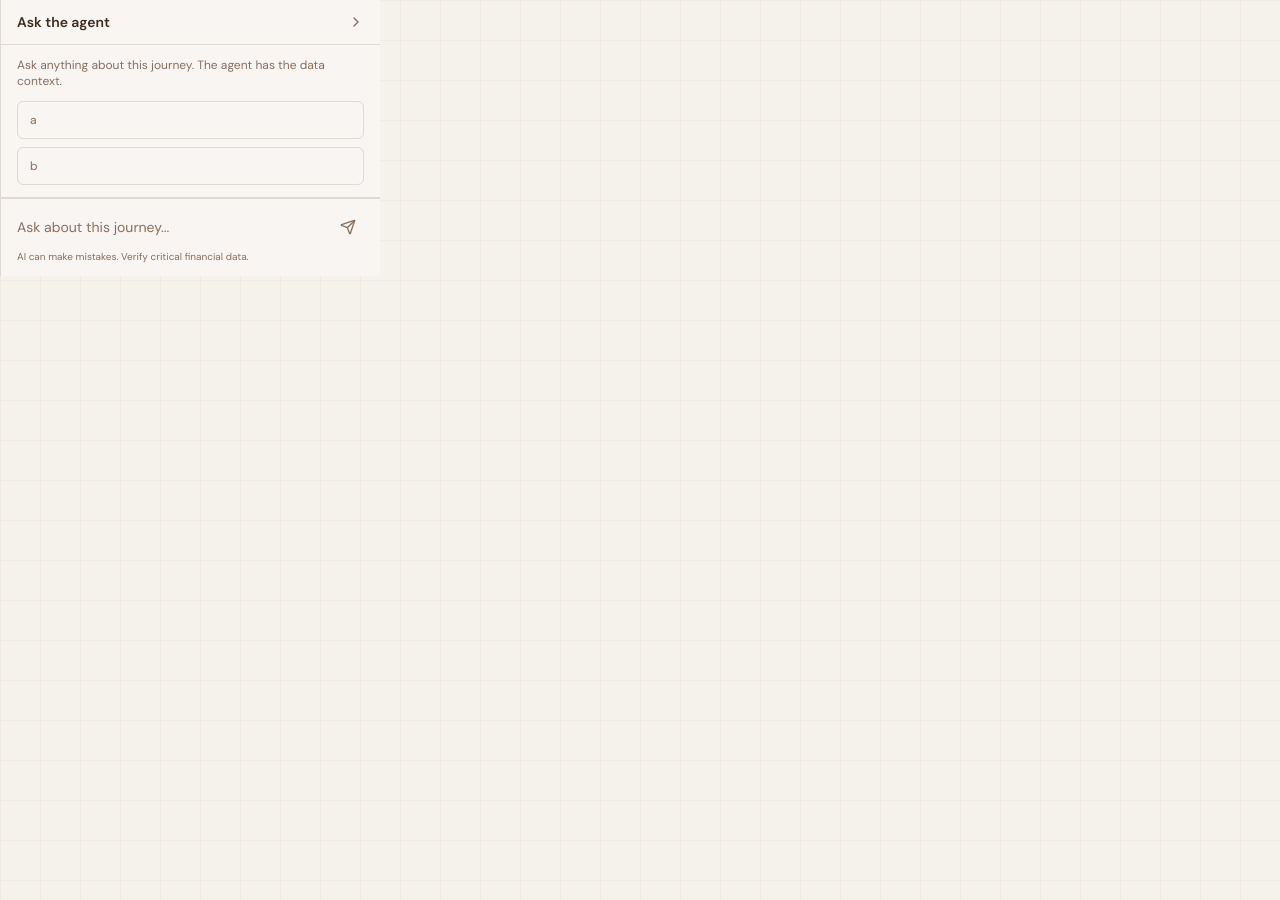
Test case: JourneyChatPanel — collapse state › clicking collapse writes 'false' to localStorage
The width and height of the screenshot is (1280, 900).
Click the button named "Collapse chat panel" at (356, 22), box [348,14,364,30]
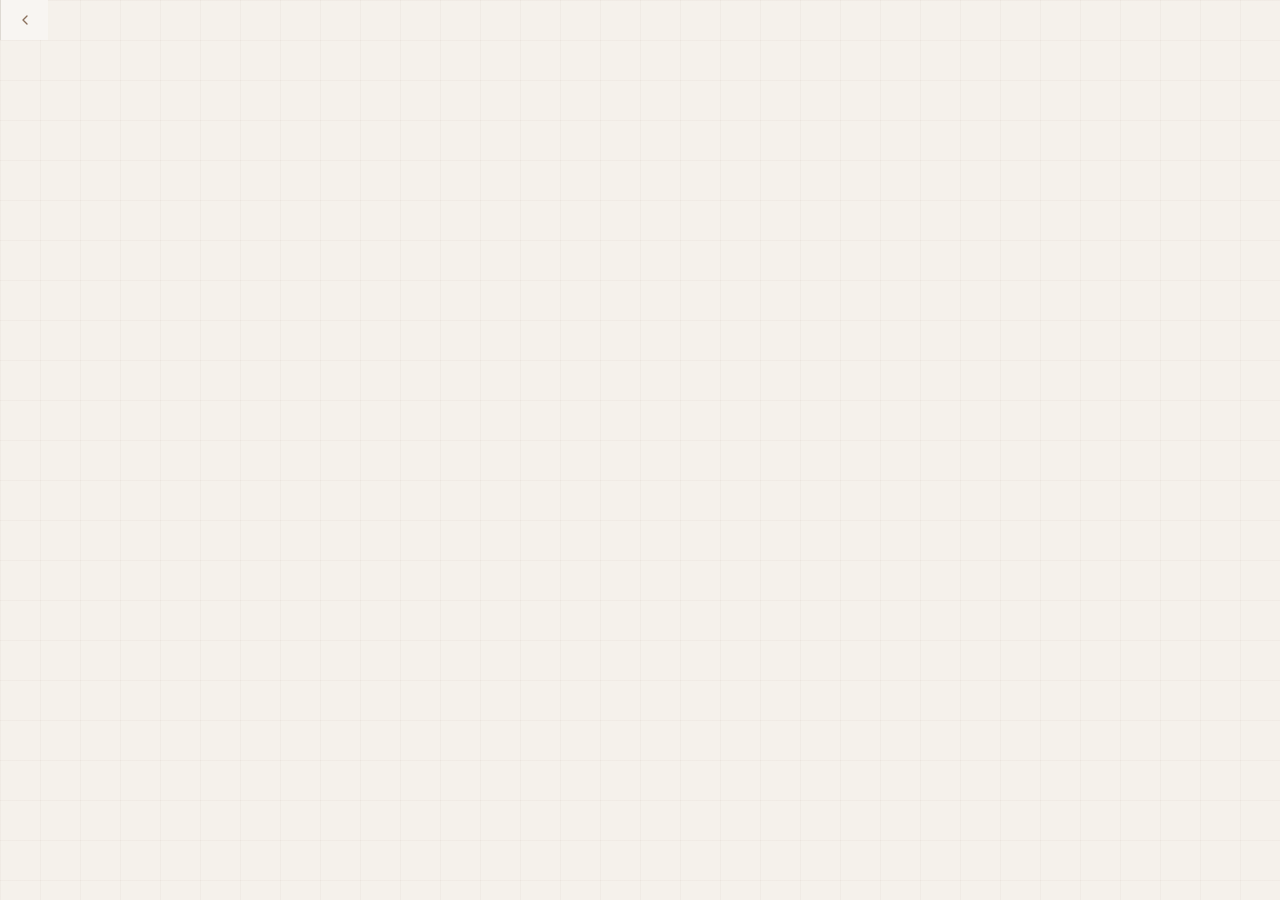
Result: the heading "Ask the agent" is gone
Result: the button named "Expand chat panel" is shown at [16,12,32,28]
